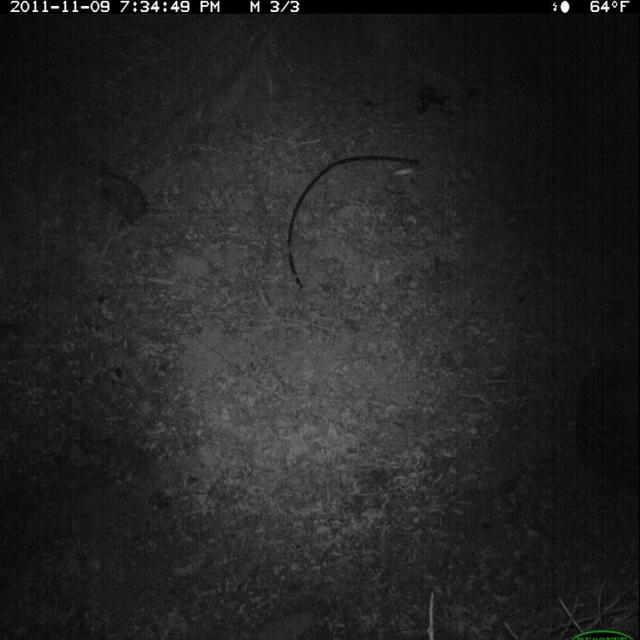opossum: (87, 160, 158, 240)
